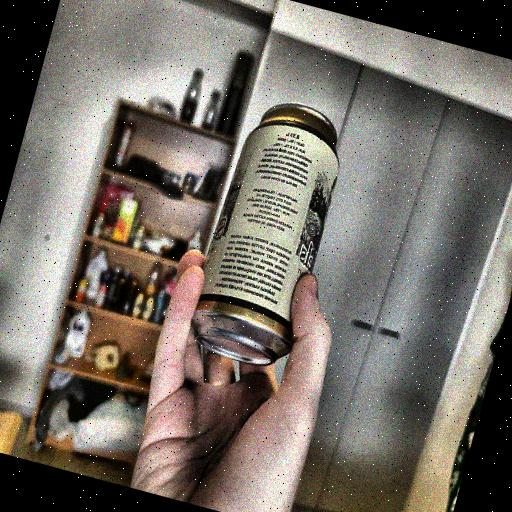sandels: (184, 90, 366, 376)
